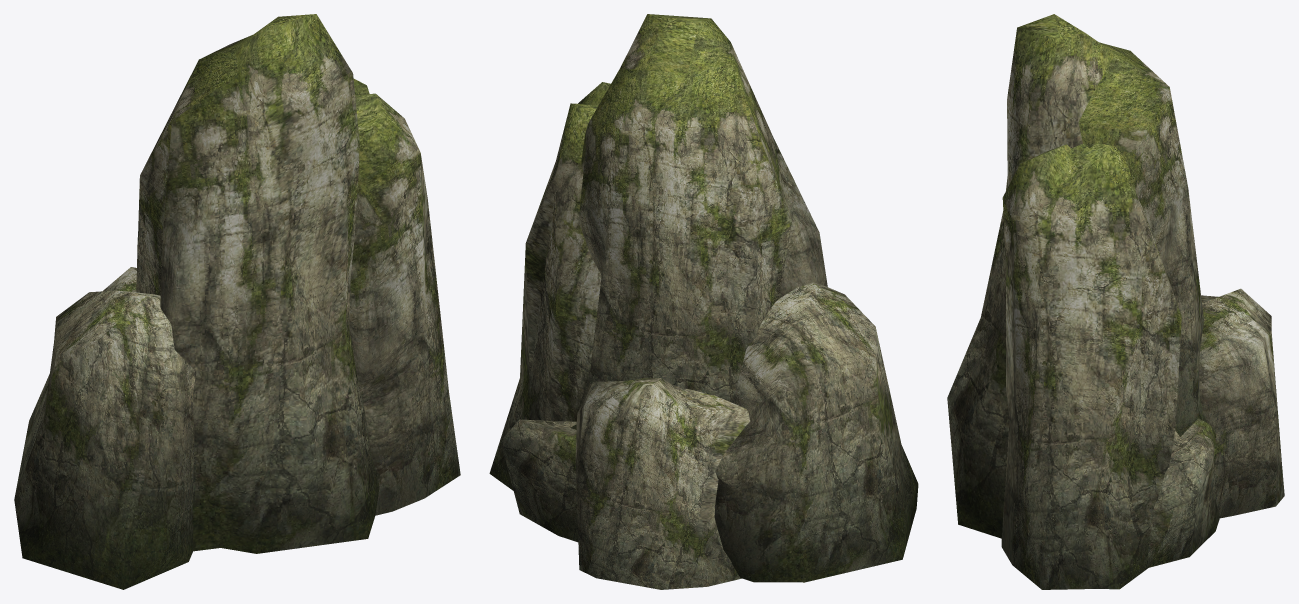
File: Maincity03_Stone_07_LOD2.FBX
The picture shows the model from 3 angles, left to right: view 1: azimuth 30°, elevation 25°; view 2: azimuth 150°, elevation 25°; view 3: azimuth 270°, elevation 25°; orthographic projection. The views are drawn at different scales.
Parts seen in each view (by area): view 1: hyc_xinshanshi01_LOD2; view 2: hyc_xinshanshi01_LOD2; view 3: hyc_xinshanshi01_LOD2.
Boxes of the visible parts, left/top/right/bottom form: hyc_xinshanshi01_LOD2: left=14, top=14, right=460, bottom=589; hyc_xinshanshi01_LOD2: left=489, top=14, right=918, bottom=589; hyc_xinshanshi01_LOD2: left=947, top=14, right=1284, bottom=589.
Size of the model in its own units: 2282 by 2573 by 1618.
